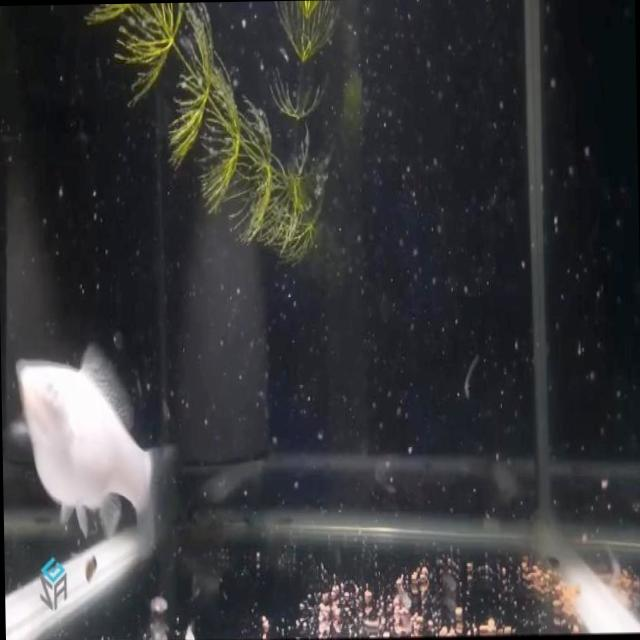PlatyFish: (10, 329, 184, 566)
